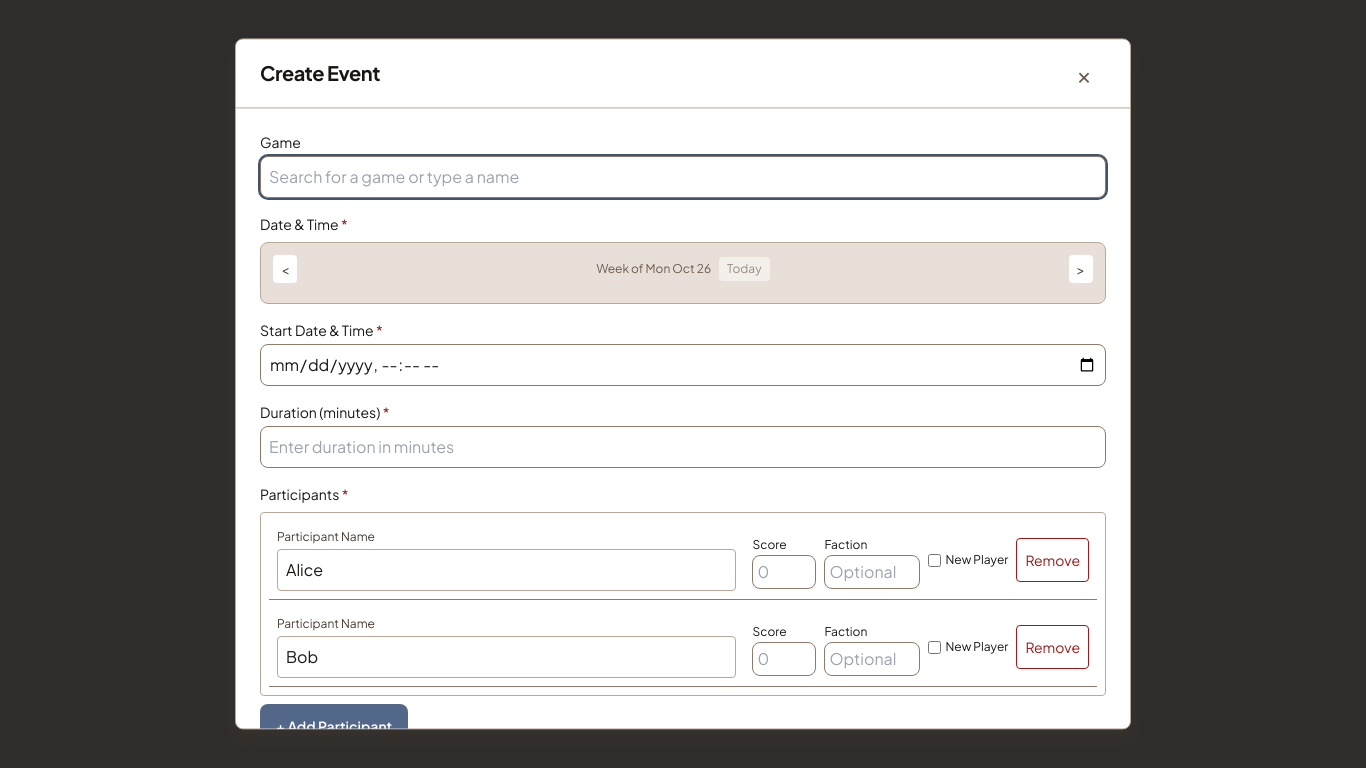
duplicate-name hint (triage A1 — informational, never blocking) › appears when a typed name collides and never disables submit
Expected: the text "Alice" is shown, left=277, top=549, right=736, bottom=591
Click the button "+ Add Participant". click: x=334, y=726
box: left=260, top=704, right=408, bottom=748
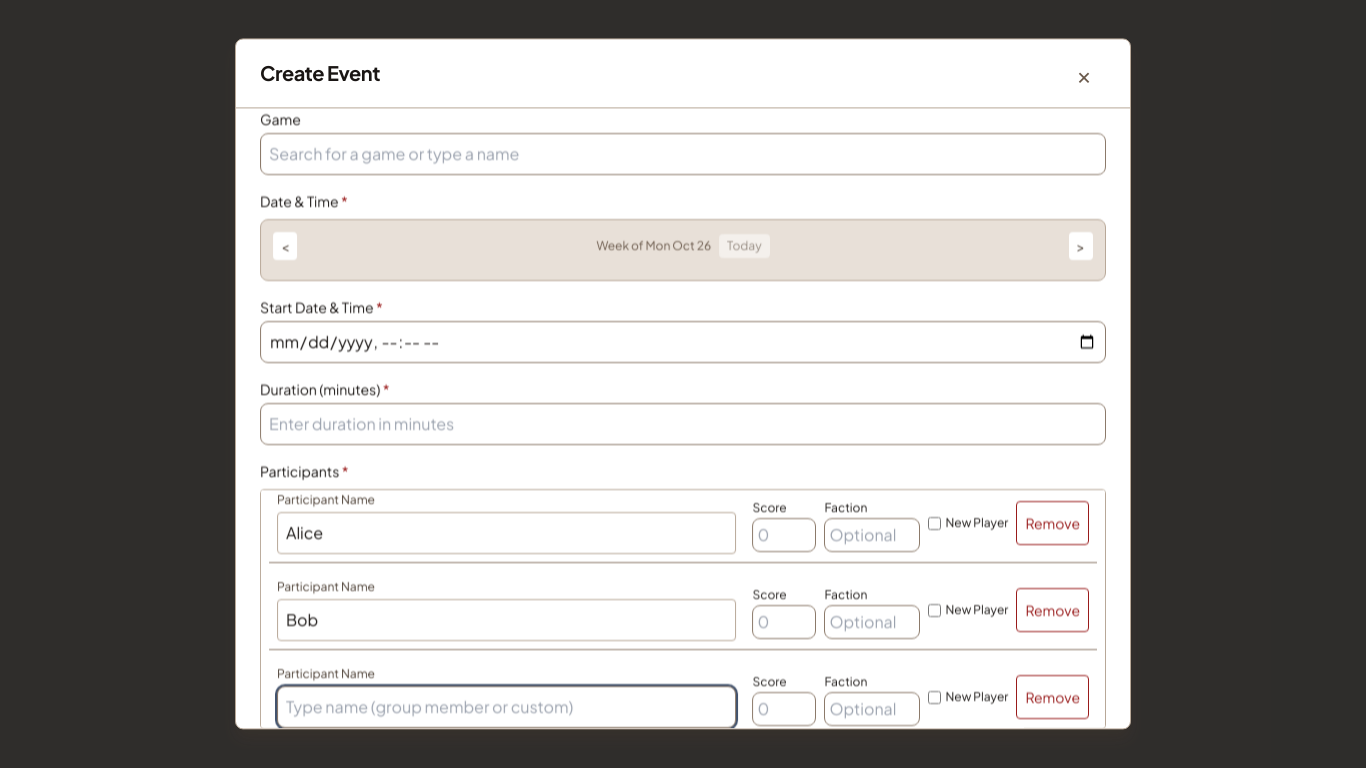
Type "Alice" into the field labelled "Participant Name". click: x=507, y=707
box: left=277, top=686, right=736, bottom=728
(page scrolled)
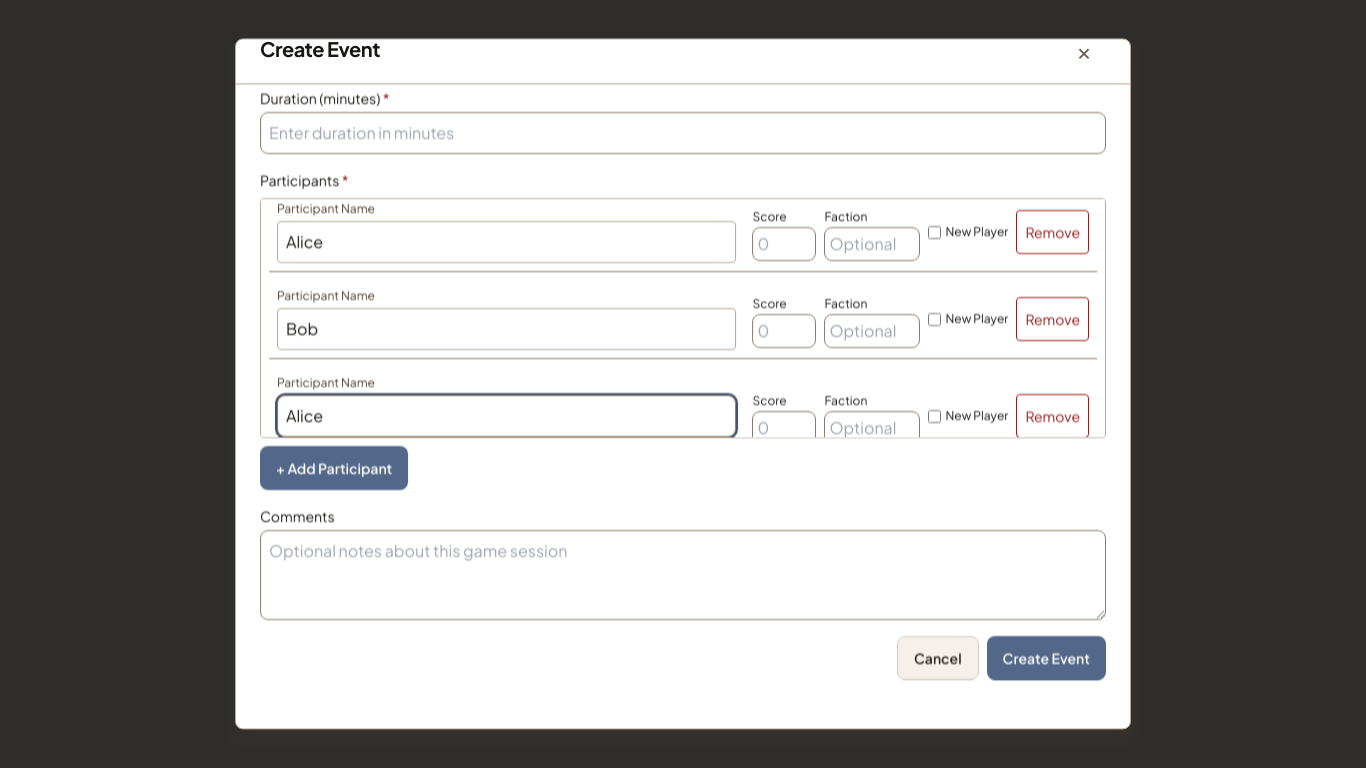
Expected: the button "Create Event" is enabled, left=987, top=636, right=1106, bottom=680
